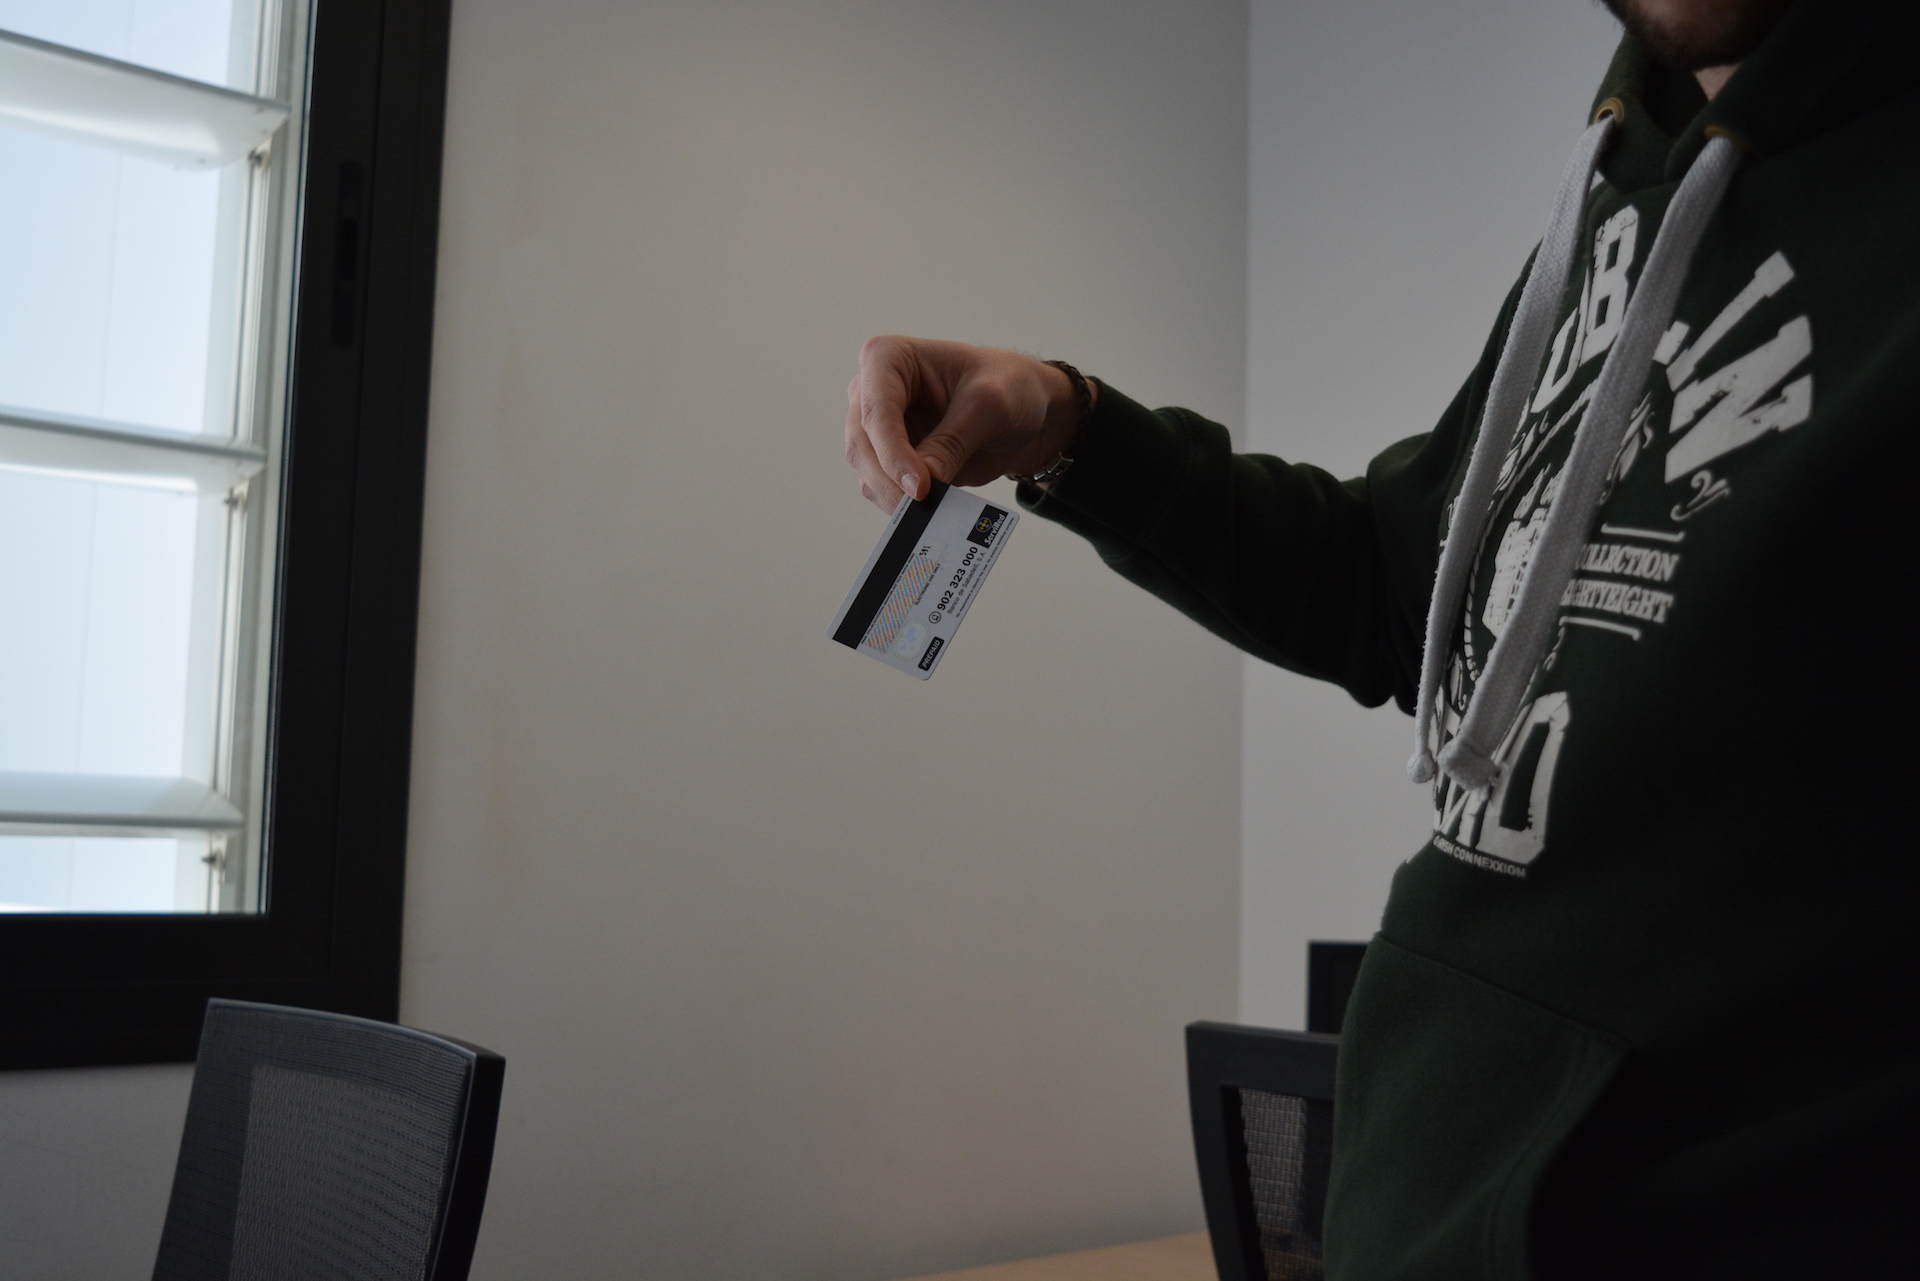tarjeta: (823, 478, 1024, 682)
